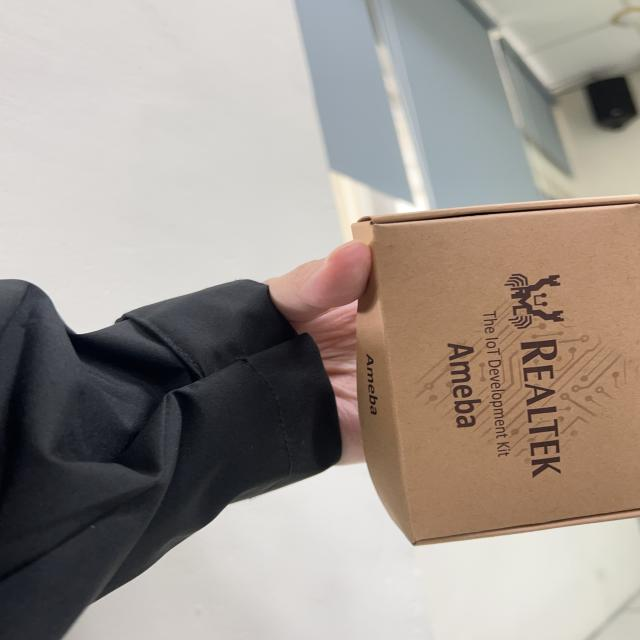box: (319, 182, 640, 554)
